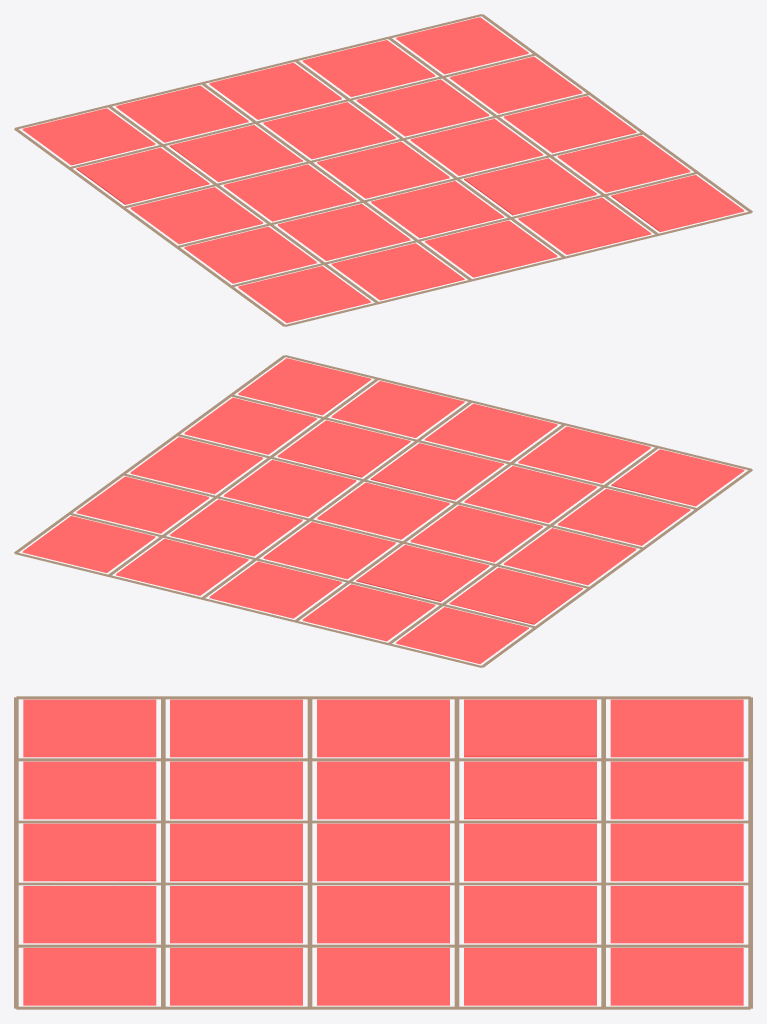
Rendered from prop_number_grid_lod1.glb.
The picture shows the model from 3 angles, top to bottom: view 1: azimuth 30°, elevation 25°; view 2: azimuth 150°, elevation 25°; view 3: azimuth 270°, elevation 25°; orthographic projection. The views are drawn at different scales.
Visible parts, largest first — view 1: prop_number_grid_lod1; view 2: prop_number_grid_lod1; view 3: prop_number_grid_lod1.
Part boxes in pixels (x1,y1,x2,y2): prop_number_grid_lod1: [14, 14, 752, 326]; prop_number_grid_lod1: [14, 355, 752, 667]; prop_number_grid_lod1: [14, 696, 752, 1009].
Size of the model in its own units: 9.56 by 0.022 by 9.56.
